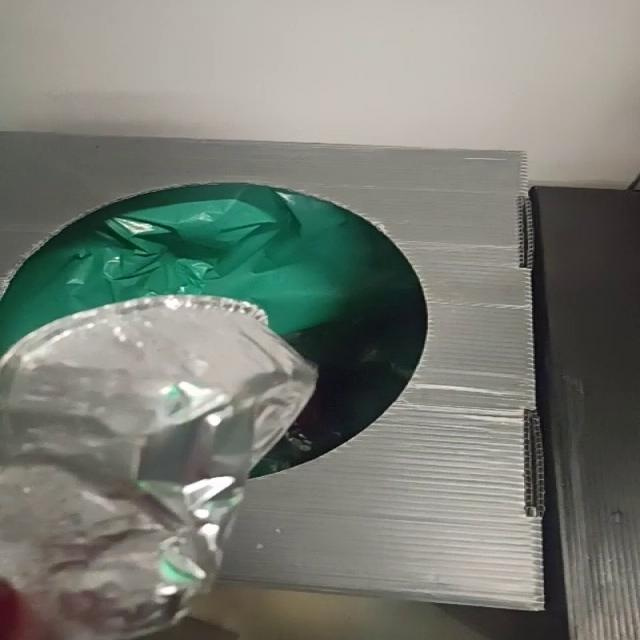Bin: (3, 133, 545, 612)
Metal: (1, 296, 316, 640)
